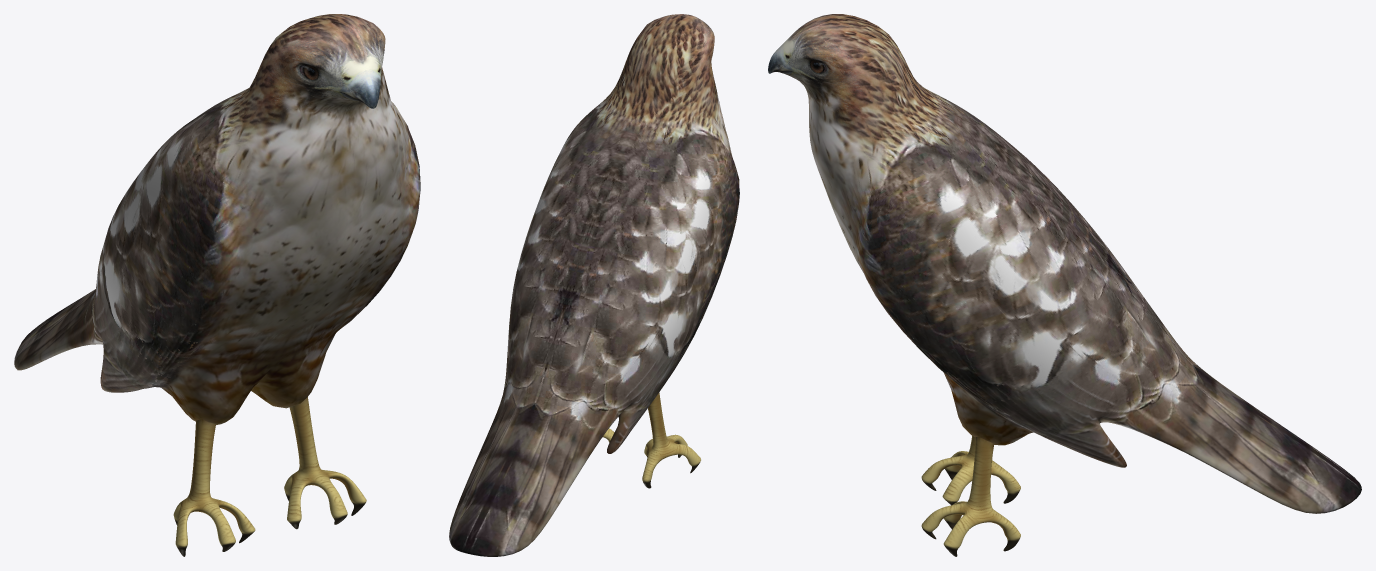
The model's file is hawk.fbx.
3 views of the same model, side by side, from view 1: azimuth 30°, elevation 25°; view 2: azimuth 150°, elevation 25°; view 3: azimuth 270°, elevation 25° (orthographic). The views are drawn at different scales.
Parts seen in each view (by area): view 1: 10025_Hawk_v1_iterations-2; view 2: 10025_Hawk_v1_iterations-2; view 3: 10025_Hawk_v1_iterations-2.
Boxes of the visible parts, x1,y1,x2,y2 form: 10025_Hawk_v1_iterations-2: (14,14,420,556); 10025_Hawk_v1_iterations-2: (449,14,739,556); 10025_Hawk_v1_iterations-2: (768,14,1361,556).
Bounding box in the file's own units: 13.13 × 31.3 × 33.18.
Materials: 1 (1 with a texture image).
